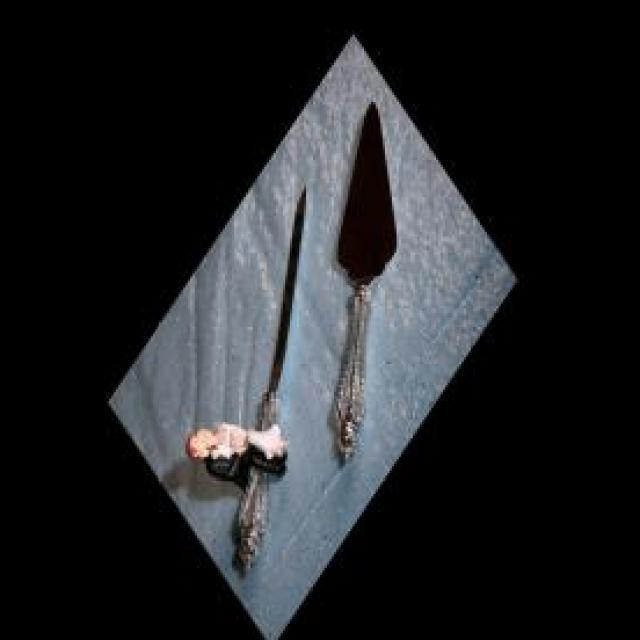knife: (230, 185, 306, 562), (329, 102, 394, 471)
